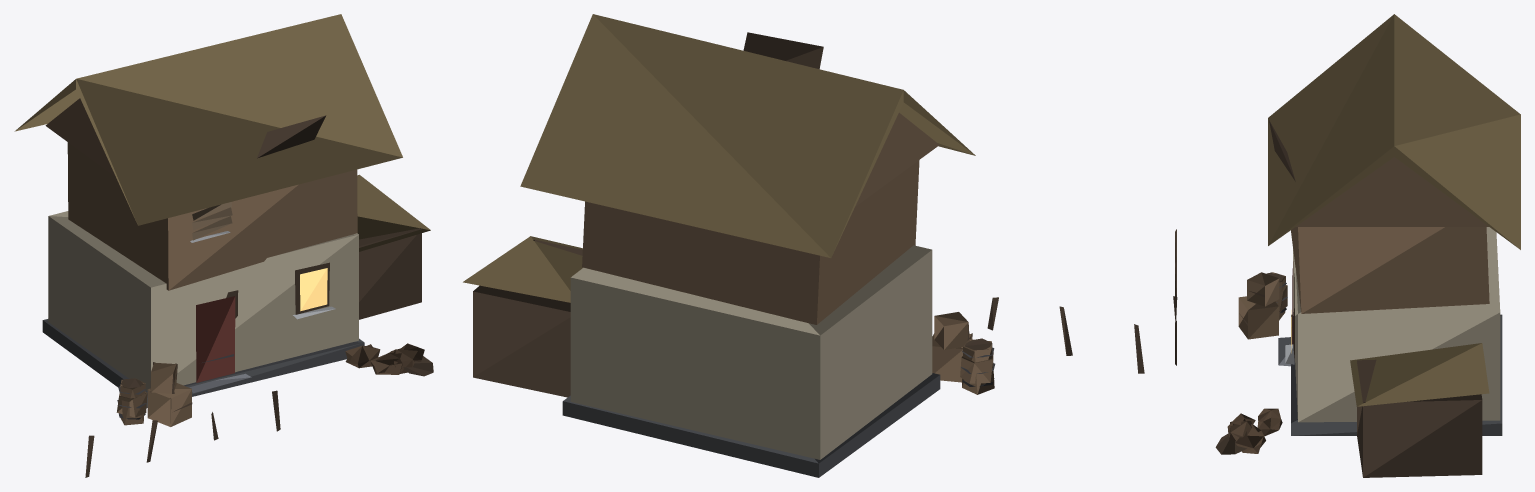
File: bill_ferny_house_lod1.glb
3 renders of one model, left to right at view 1: azimuth 30°, elevation 25°; view 2: azimuth 150°, elevation 25°; view 3: azimuth 270°, elevation 25°, orthographic. The views are drawn at different scales.
Parts seen in each view (by area): view 1: bill_ferny_house_lod1; view 2: bill_ferny_house_lod1; view 3: bill_ferny_house_lod1.
Boxes of the visible parts, <box> form: bill_ferny_house_lod1: <box>14,14,433,477</box>; bill_ferny_house_lod1: <box>463,14,1144,477</box>; bill_ferny_house_lod1: <box>1173,14,1520,477</box>.
Size of the model in its own units: 11.15 by 7.34 by 7.56.
